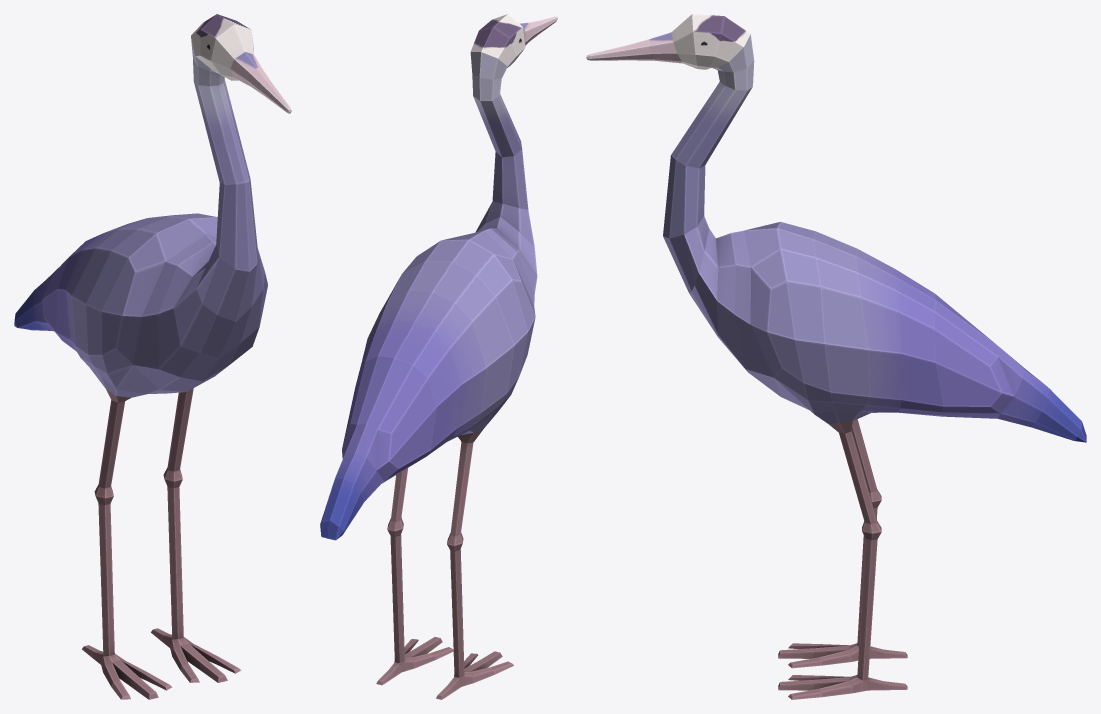
File: BlueHeron.obj
3 renders of one model, left to right at view 1: azimuth 30°, elevation 25°; view 2: azimuth 150°, elevation 25°; view 3: azimuth 270°, elevation 25°, orthographic. The views are drawn at different scales.
Parts seen in each view (by area): view 1: BlueHeron_mesh; view 2: BlueHeron_mesh; view 3: BlueHeron_mesh.
Boxes of the visible parts, x1,y1,x2,y2 form: BlueHeron_mesh: (14, 14, 291, 699); BlueHeron_mesh: (320, 14, 557, 699); BlueHeron_mesh: (586, 14, 1086, 699).
Bounding box in the file's own units: 3.1 × 13.3 × 9.16.
1 material, 1 textured.
